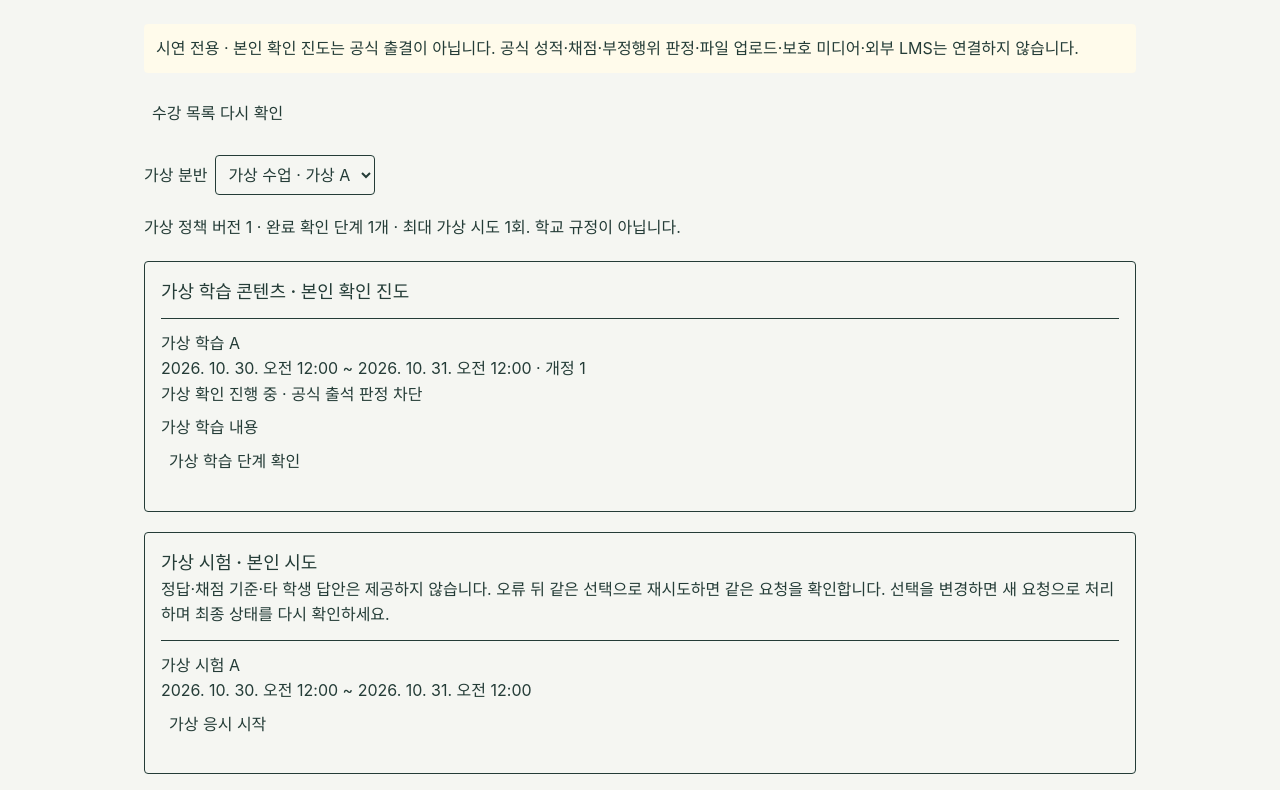
Test: 온라인 학습 화면 › 선택한 가상 답안만 제출하고 채점 없이 제출을 확인한다
This screenshot has width=1280, height=790.
(page scrolled)
Expected: the text "가상 학습 내용" is shown, [161,417,258,437]
Click the button "가상 응시 시작" at (218, 725), box [161,704,274,746]
(page scrolled)
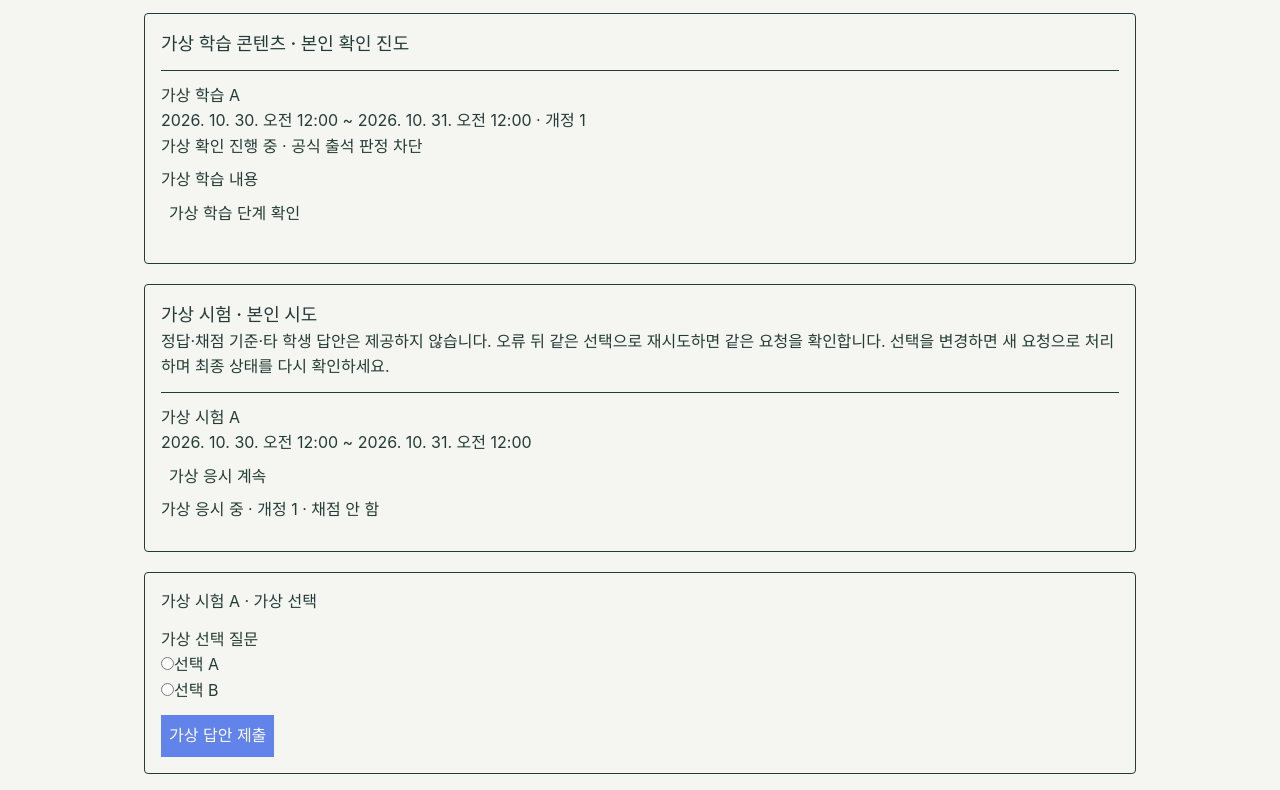
Result: the text "가상 선택 질문" is shown at [161,627,258,652]
Click the radio button labelled "선택 B" at (168, 689), box [161,683,174,696]
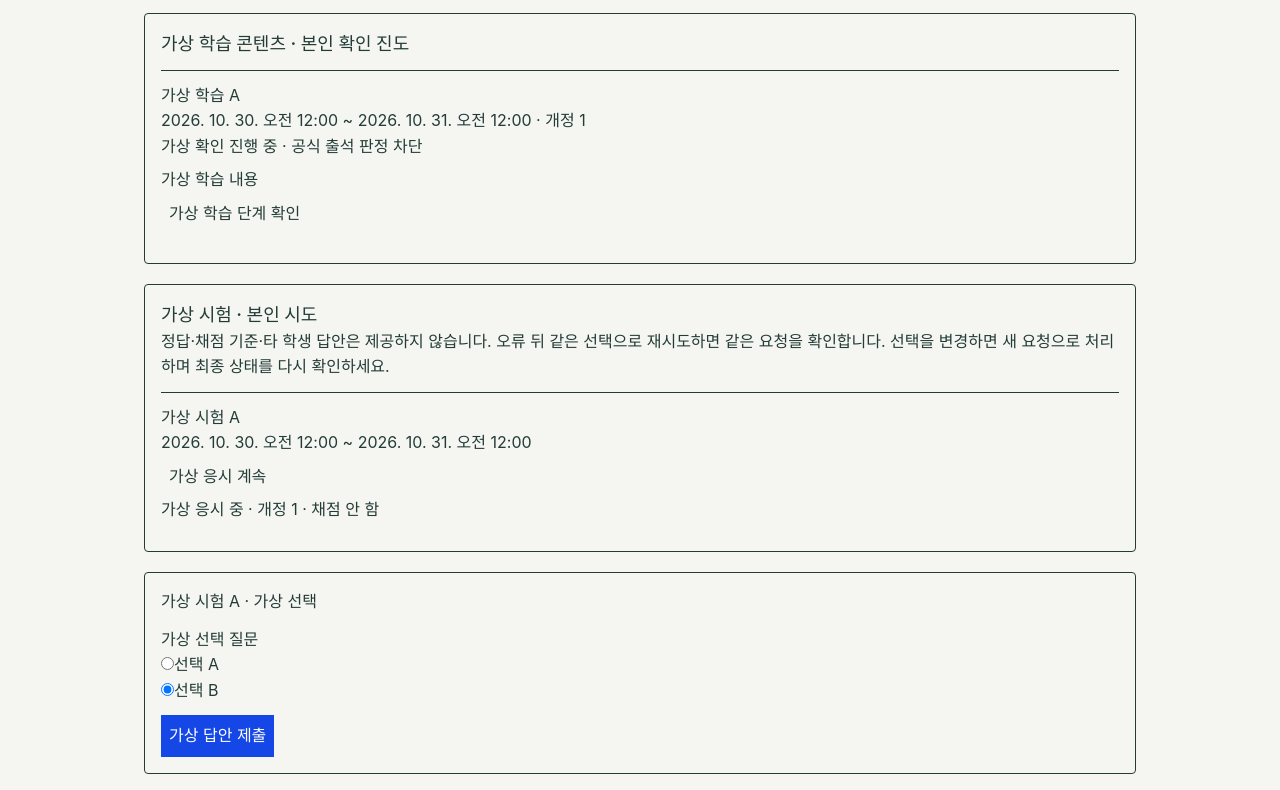
Click the button "가상 답안 제출" at (218, 736), box [161,715,274,757]
(page scrolled)
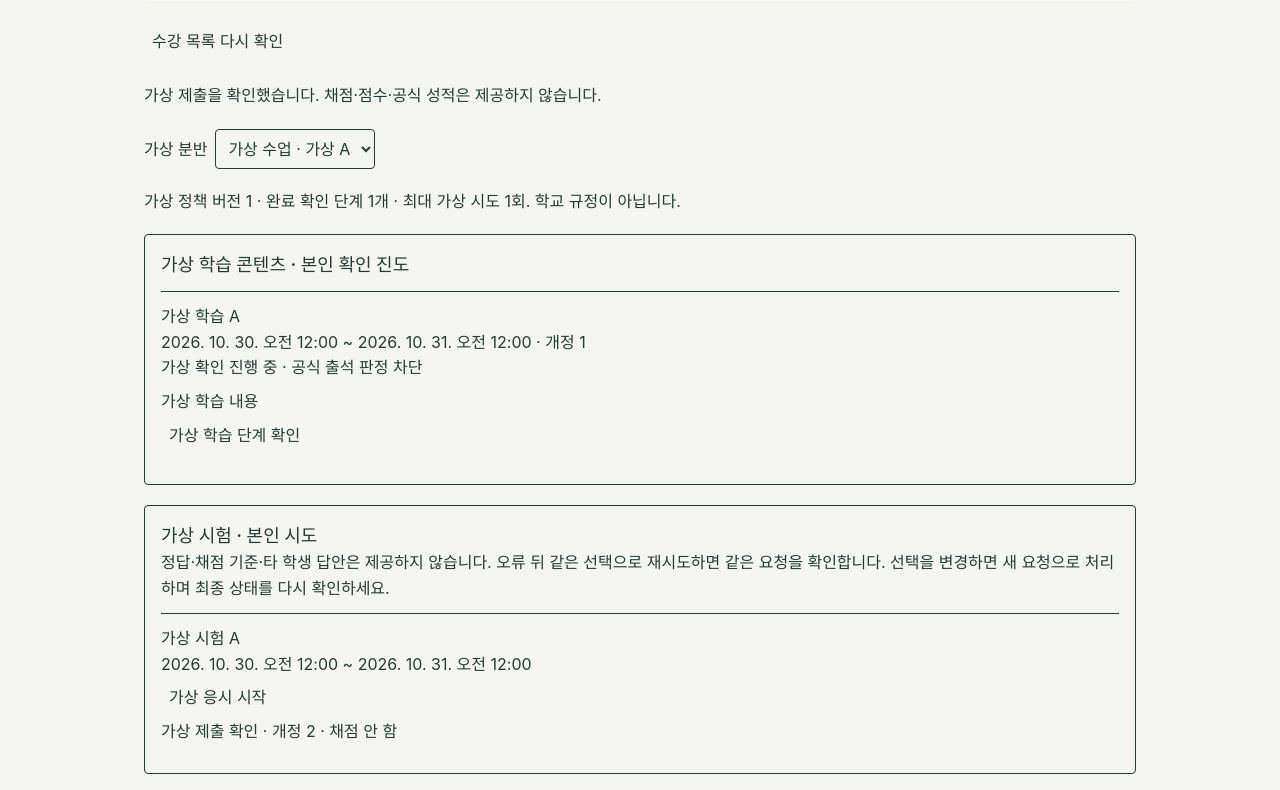
Result: the text "가상 제출을 확인했습니다. 채점·점수·공식 성적은 제공하지 않습니다." is shown at [144,85,602,105]
Result: the text "가상 선택 질문" is gone
